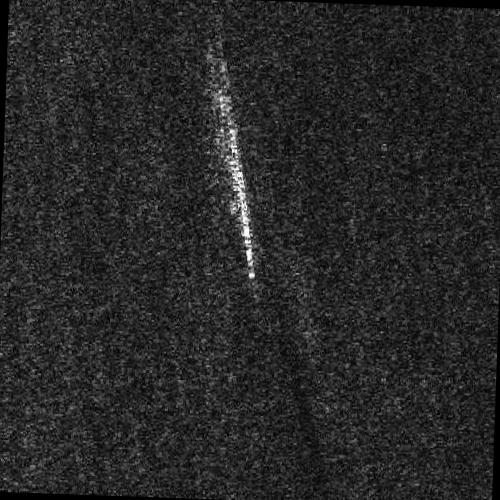ship: (227, 124, 255, 282)
